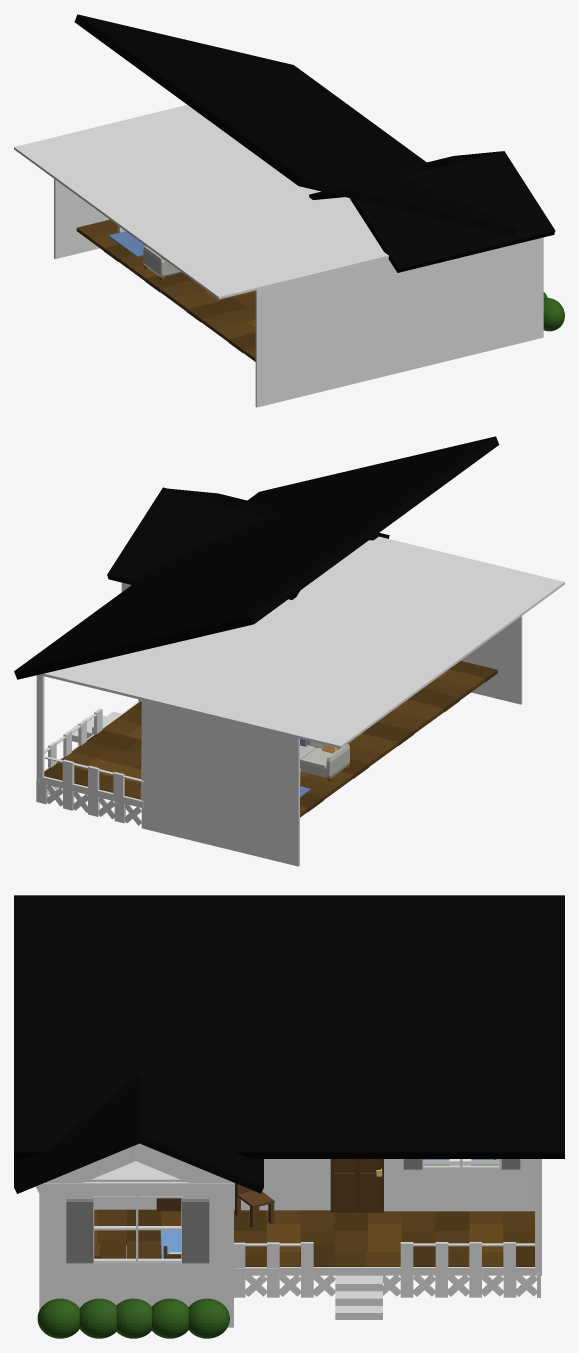
Rendered from House (1).fbx.
3 renders of one model, top to bottom at view 1: azimuth 30°, elevation 25°; view 2: azimuth 150°, elevation 25°; view 3: azimuth 270°, elevation 25°, orthographic. The views are drawn at different scales.
Visible parts, largest first — view 1: Cube.071, Cube.088, Cube.125, Cube.124, Cube.090, Cube.073, Cube.041, Cube.079, Cube.092, Cube.077, Cube.078, Cube.091 (+1 smaller); view 2: Cube.071, Cube.088, Cube.041, Cube.124, Cube.072, Cube.068, Cube.125, Cube.023, Cube.092, Cube.074, Cube.079, Cube.091 (+8 smaller); view 3: Cube.071, Cube.073, Cube.024, Cube.040, Cube.025, Cube.055, Cube.023, Cube.072, Cube.057, Cube.042, Cube.062, Cube.058 (+26 smaller).
Boxes of the visible parts, left/top/right/bottom form: Cube.071: left=74, top=14, right=517, bottom=236; Cube.088: left=14, top=105, right=319, bottom=241; Cube.125: left=255, top=258, right=400, bottom=407; Cube.124: left=140, top=198, right=388, bottom=299; Cube.090: left=400, top=237, right=543, bottom=372; Cube.073: left=350, top=151, right=555, bottom=272; Cube.041: left=54, top=179, right=109, bottom=258; Cube.079: left=159, top=280, right=255, bottom=322; Cube.092: left=201, top=305, right=255, bottom=352; Cube.077: left=76, top=219, right=133, bottom=261; Cube.078: left=118, top=254, right=191, bottom=292; Cube.091: left=143, top=246, right=182, bottom=280; Cube.071: left=14, top=436, right=499, bottom=679; Cube.088: left=141, top=599, right=478, bottom=748; Cube.041: left=141, top=700, right=299, bottom=866; Cube.124: left=293, top=536, right=564, bottom=647; Cube.072: left=107, top=487, right=216, bottom=584; Cube.068: left=40, top=629, right=231, bottom=699; Cube.125: left=461, top=616, right=522, bottom=704; Cube.023: left=44, top=741, right=141, bottom=799; Cube.092: left=377, top=688, right=459, bottom=733; Cube.074: left=184, top=504, right=300, bottom=599; Cube.079: left=347, top=722, right=413, bottom=766; Cube.091: left=300, top=739, right=349, bottom=781; Cube.071: left=14, top=895, right=564, bottom=1158; Cube.073: left=14, top=1074, right=142, bottom=1193; Cube.024: left=333, top=1211, right=436, bottom=1266; Cube.040: left=182, top=1182, right=233, bottom=1327; Cube.025: left=234, top=1210, right=335, bottom=1266; Cube.055: left=40, top=1182, right=91, bottom=1308; Cube.023: left=434, top=1211, right=534, bottom=1266; Cube.072: left=138, top=1106, right=263, bottom=1193; Cube.057: left=90, top=1262, right=182, bottom=1306; Cube.042: left=234, top=1159, right=330, bottom=1210; Cube.062: left=421, top=1169, right=501, bottom=1211; Cube.058: left=330, top=1159, right=383, bottom=1212.
Size of what is drawn, in the model's own units: 1455 by 907 by 1604.
